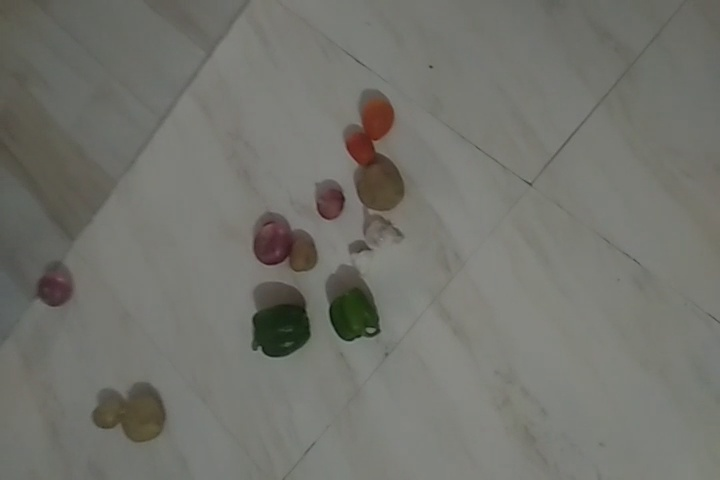capsicum: (250, 308, 308, 356), (330, 290, 382, 343)
onion: (243, 218, 290, 264), (38, 270, 69, 309), (314, 188, 346, 220)
potato: (120, 399, 162, 447), (358, 168, 403, 212), (292, 238, 322, 276), (91, 403, 121, 429)
tomato: (363, 96, 395, 141), (345, 124, 375, 161), (368, 219, 402, 248)
